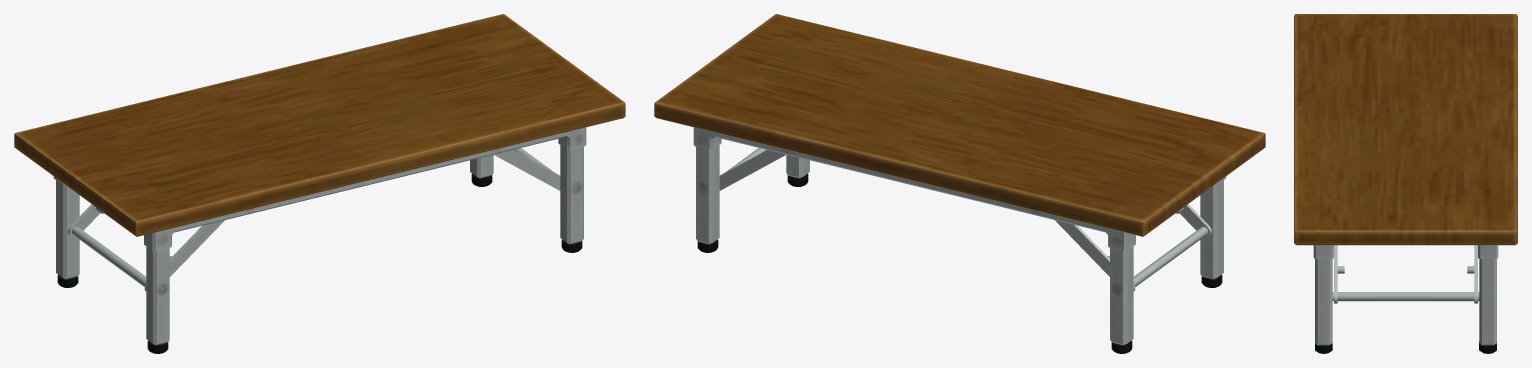
The picture shows the model from 3 angles, left to right: view 1: azimuth 30°, elevation 25°; view 2: azimuth 150°, elevation 25°; view 3: azimuth 270°, elevation 25°; orthographic projection. The views are drawn at different scales.
Size of the model in its own units: 17.5 by 5.1 by 7.57.
1 material, 1 textured.
